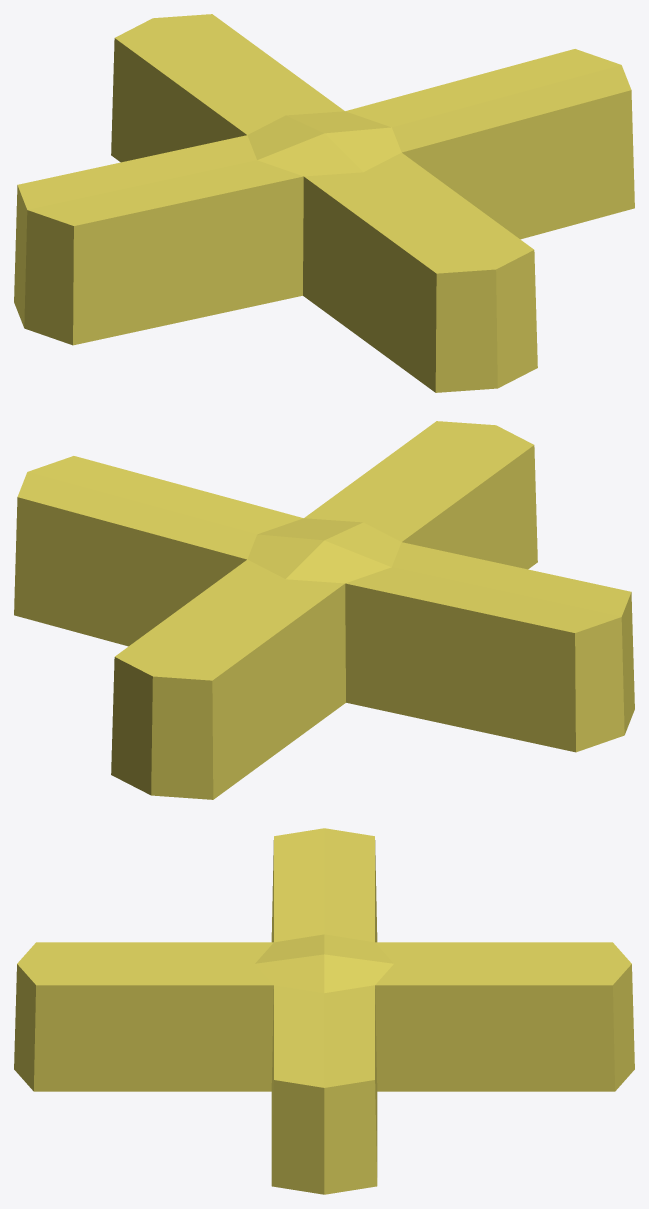
Rendered from Shaft5.glb.
The picture shows the model from 3 angles, top to bottom: view 1: azimuth 30°, elevation 25°; view 2: azimuth 150°, elevation 25°; view 3: azimuth 270°, elevation 25°; orthographic projection. The views are drawn at different scales.
Parts seen in each view (by area): view 1: Shaft5.001; view 2: Shaft5.001; view 3: Shaft5.001.
Part boxes in pixels (x1=…): Shaft5.001: x1=14, y1=14, x2=634, y2=392; Shaft5.001: x1=14, y1=421, x2=634, y2=799; Shaft5.001: x1=14, y1=828, x2=634, y2=1194.
Bounding box in the file's own units: 2.61 × 0.5331 × 2.61.
